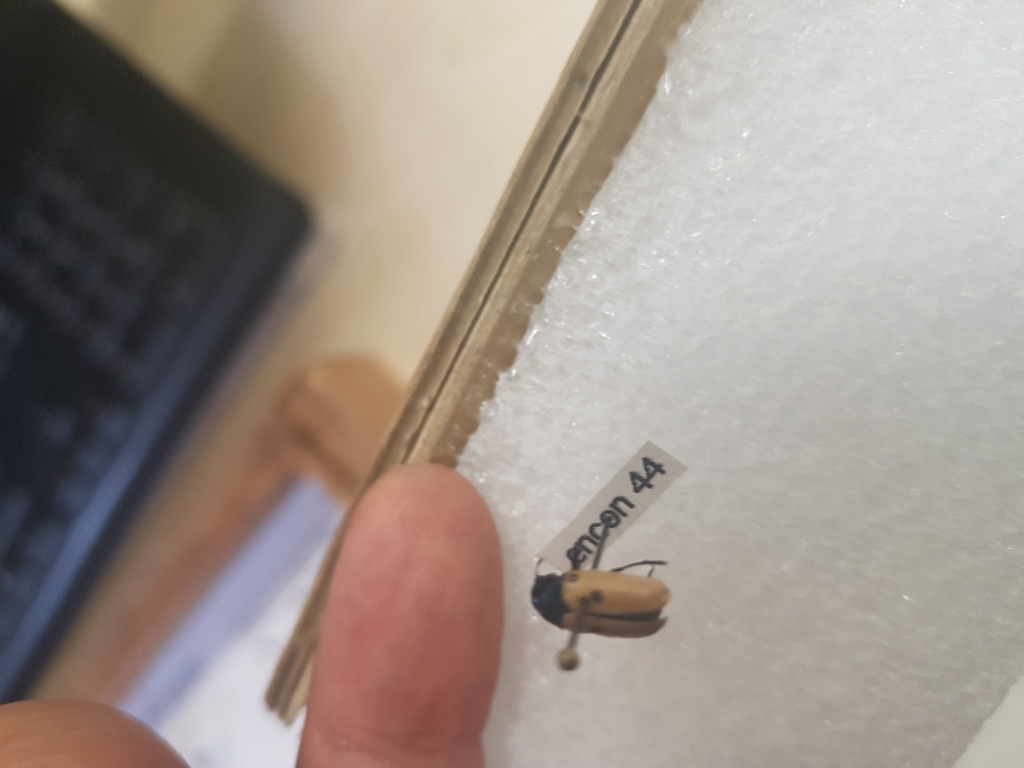Labidostomis_maculipennis: (533, 548, 670, 636)
